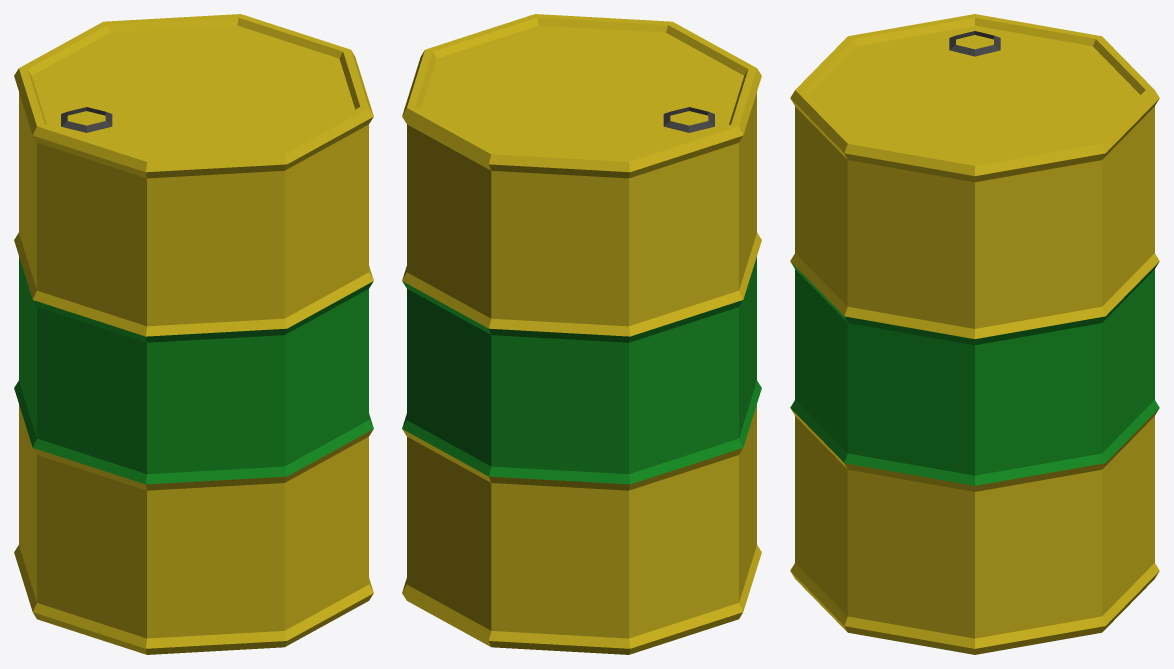
File: DrumYellowGreen.fbx
The picture shows the model from 3 angles, left to right: view 1: azimuth 30°, elevation 25°; view 2: azimuth 150°, elevation 25°; view 3: azimuth 270°, elevation 25°; orthographic projection.
Parts seen in each view (by area): view 1: Cylinder; view 2: Cylinder; view 3: Cylinder.
Boxes of the visible parts, box(x1,y1,x2,y2) form: Cylinder: box(14, 14, 373, 654); Cylinder: box(402, 14, 761, 654); Cylinder: box(790, 14, 1159, 654).
Bounding box in the file's own units: 0.822 × 1.2 × 0.822.
